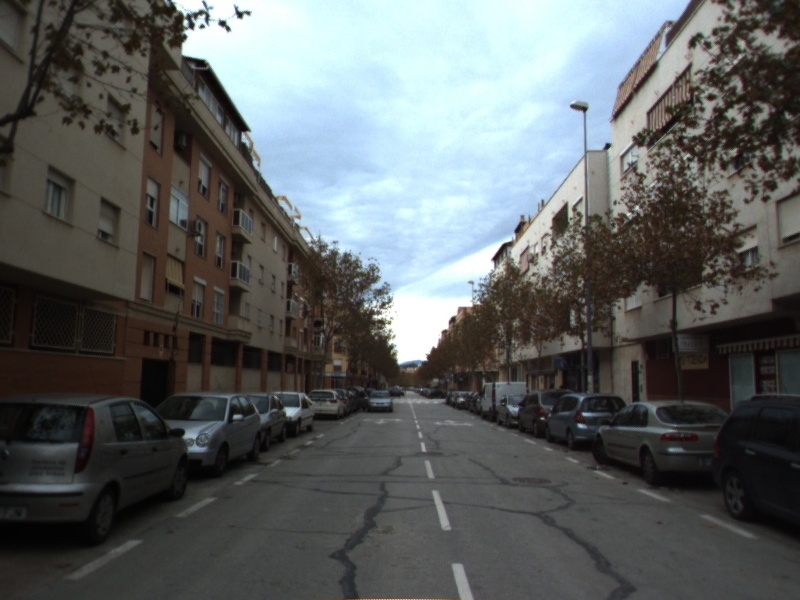STRAIGHT_LEFT_RIGHT: (431, 417, 476, 428)
